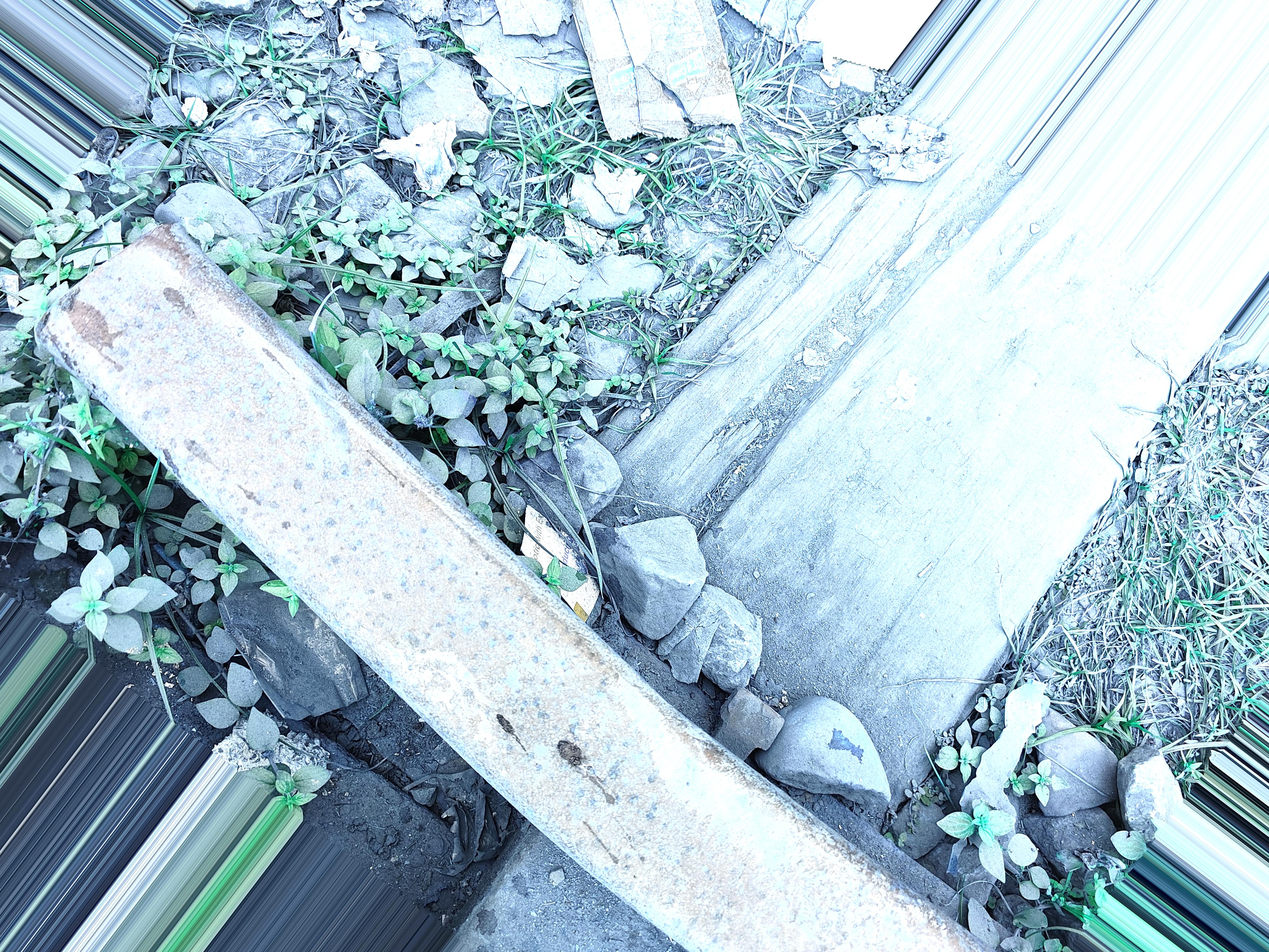tracks_fault: (13, 205, 324, 411)
